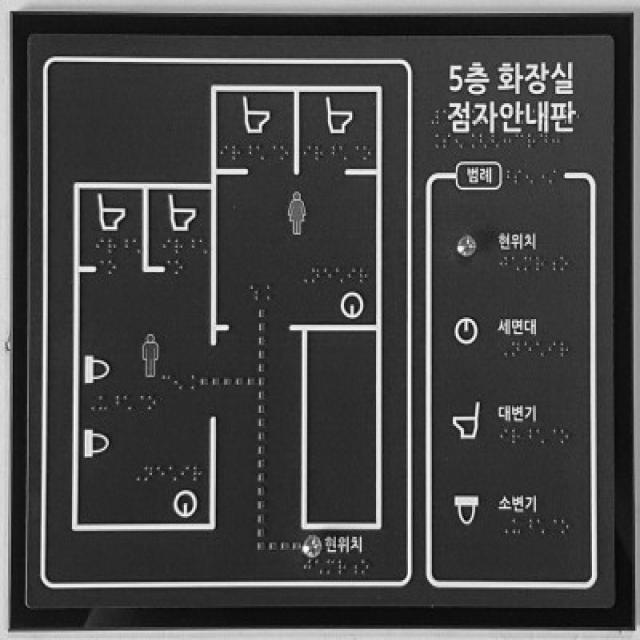braiile: (324, 559, 348, 577), (523, 256, 545, 273), (247, 282, 260, 302), (160, 373, 172, 393), (260, 282, 272, 302), (334, 265, 346, 285), (358, 265, 370, 285), (172, 373, 184, 392), (184, 373, 196, 392), (298, 266, 310, 285), (310, 266, 322, 285), (346, 265, 358, 284), (179, 465, 191, 483), (191, 465, 203, 483), (121, 394, 133, 412), (322, 266, 334, 284), (278, 144, 290, 162), (546, 340, 558, 358), (534, 427, 546, 445), (558, 427, 570, 445), (522, 518, 534, 536), (546, 427, 557, 446), (86, 395, 98, 412), (94, 238, 106, 255), (130, 238, 142, 255), (172, 238, 184, 255), (185, 238, 197, 255), (359, 558, 370, 576), (143, 465, 154, 483), (155, 465, 166, 483), (167, 465, 178, 483), (109, 394, 120, 412), (134, 394, 145, 412), (146, 394, 157, 412), (522, 341, 533, 359), (558, 340, 569, 358), (522, 428, 533, 446), (547, 517, 558, 535), (559, 517, 570, 535), (302, 558, 312, 577), (511, 341, 521, 360), (98, 395, 109, 412), (119, 238, 130, 255), (199, 238, 210, 255), (337, 144, 348, 161), (547, 256, 558, 273), (557, 255, 568, 272), (429, 133, 440, 150), (526, 132, 537, 149), (348, 558, 358, 576), (132, 466, 142, 484), (96, 259, 106, 277), (362, 144, 372, 162), (510, 255, 520, 273), (547, 168, 557, 186), (535, 340, 545, 358), (536, 518, 546, 536), (173, 259, 184, 275), (242, 145, 253, 161), (255, 145, 266, 161), (267, 145, 278, 161), (498, 256, 509, 272), (477, 133, 488, 149), (314, 559, 324, 576), (107, 238, 117, 255), (107, 259, 117, 276), (161, 238, 171, 255), (326, 144, 336, 161), (442, 133, 452, 150), (466, 133, 476, 150), (500, 342, 510, 359), (510, 428, 520, 445), (500, 518, 510, 535), (512, 518, 522, 535), (230, 145, 240, 161), (302, 145, 312, 161), (313, 145, 323, 161), (350, 145, 360, 161), (524, 170, 534, 186), (454, 134, 464, 150), (490, 134, 500, 150), (502, 134, 512, 150), (514, 133, 524, 149), (539, 134, 549, 150), (550, 133, 560, 149), (430, 110, 440, 126), (499, 429, 509, 445), (502, 170, 512, 185), (536, 169, 546, 184), (162, 258, 171, 274), (513, 170, 522, 185), (220, 145, 228, 161)
